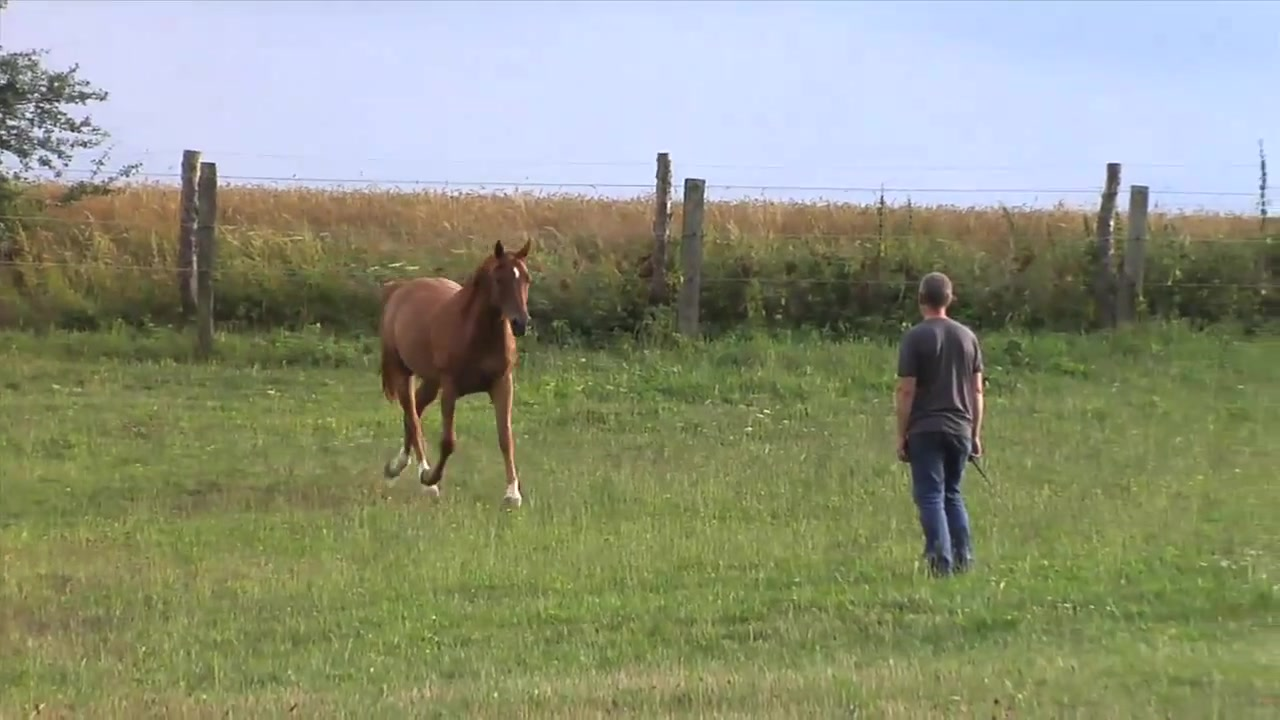horse: (378, 239, 542, 511)
